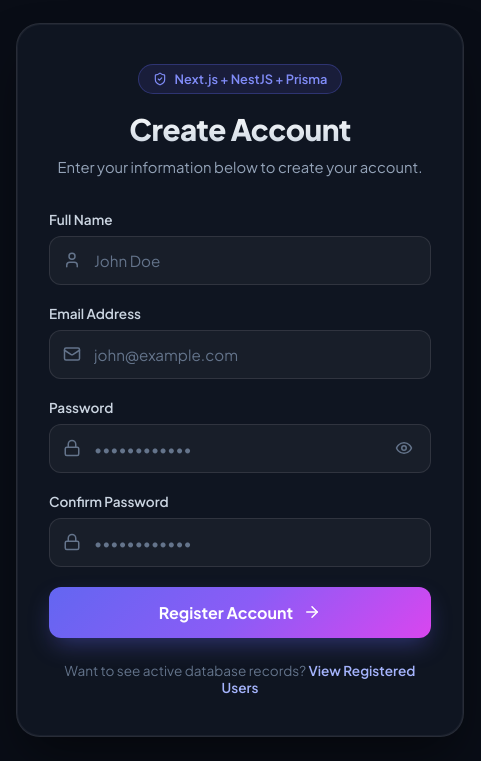
Test: RegistrationForm Component › submits valid form data and displays success view
This screenshot has width=481, height=761.
Type "Alex Morgan" into the field labelled "Full Name" at (240, 260), box x1=49 y1=236 x2=431 y2=285
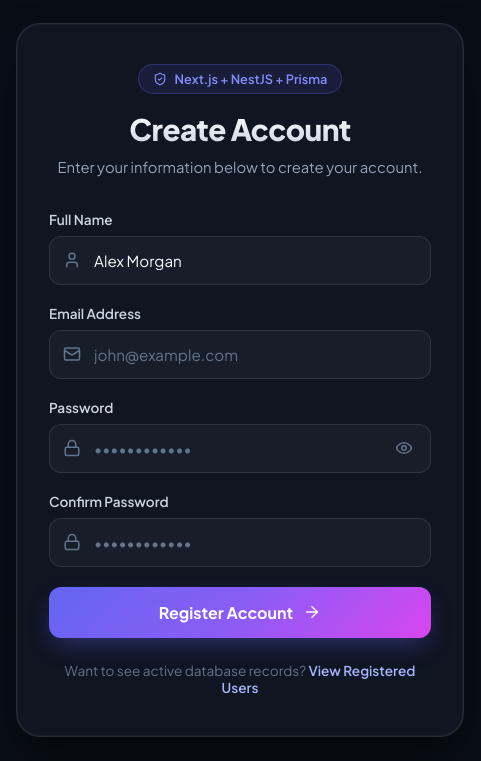
Type "alex@example.com" into the field labelled "Email Address" at (240, 354), box x1=49 y1=330 x2=431 y2=379
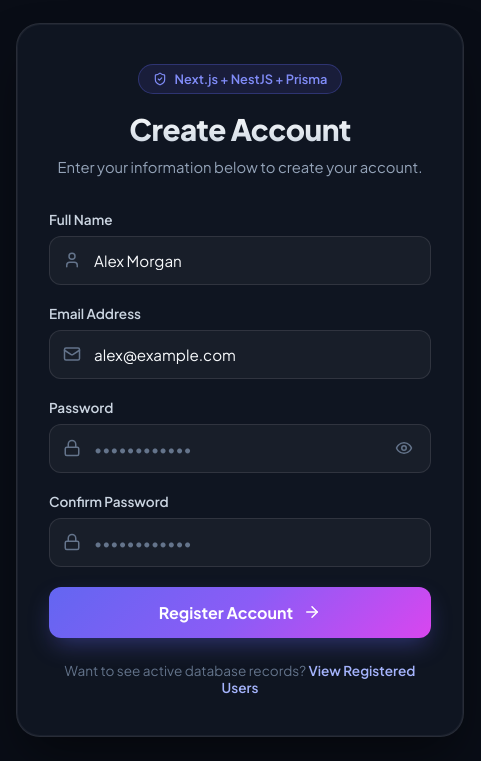
Type "secret123" into the password field labelled "Password" at (240, 448), box x1=49 y1=424 x2=431 y2=473
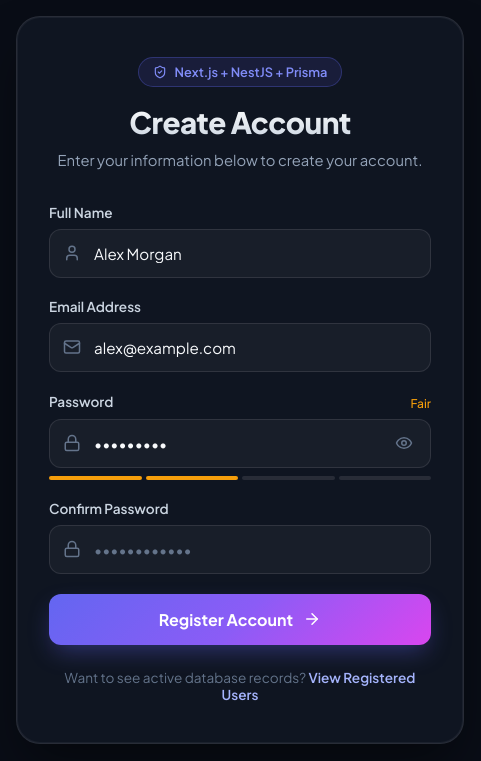
Type "secret123" into the password field labelled "Confirm Password" at (240, 549), box x1=49 y1=525 x2=431 y2=574
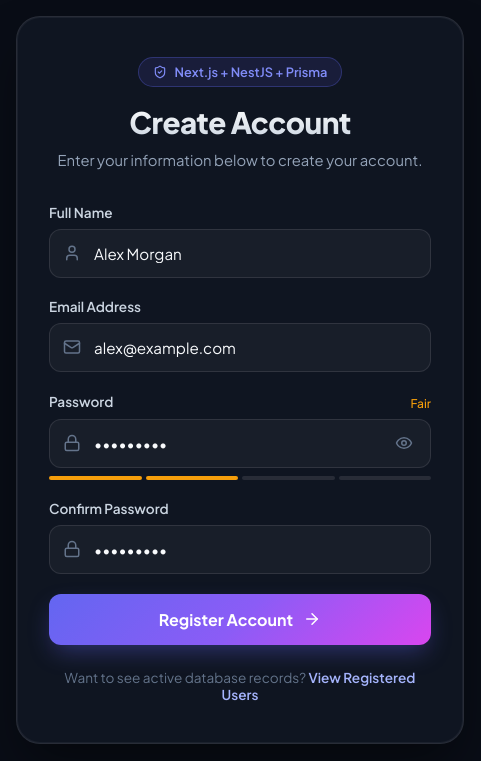
Click the button "Register Account" at (240, 619), box x1=49 y1=594 x2=431 y2=645
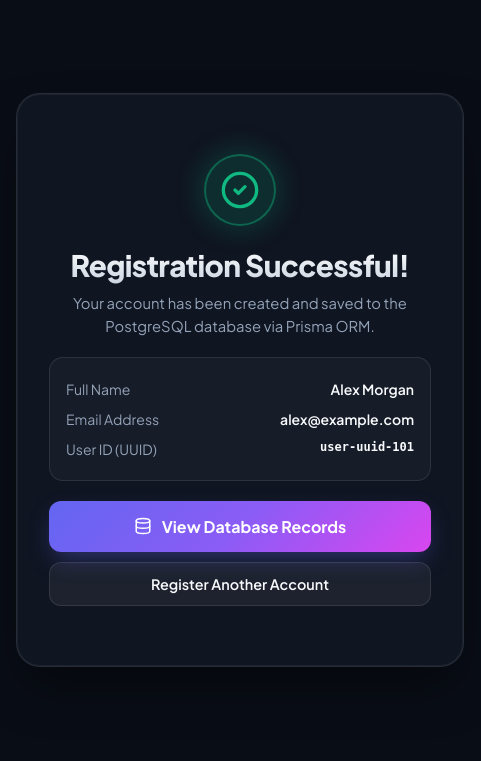
Result: the heading "Registration Successful!" is shown at x1=49 y1=246 x2=431 y2=284
Result: the text "Alex Morgan" is shown at x1=331 y1=380 x2=414 y2=398
Result: the text "alex@example.com" is shown at x1=280 y1=410 x2=414 y2=428
